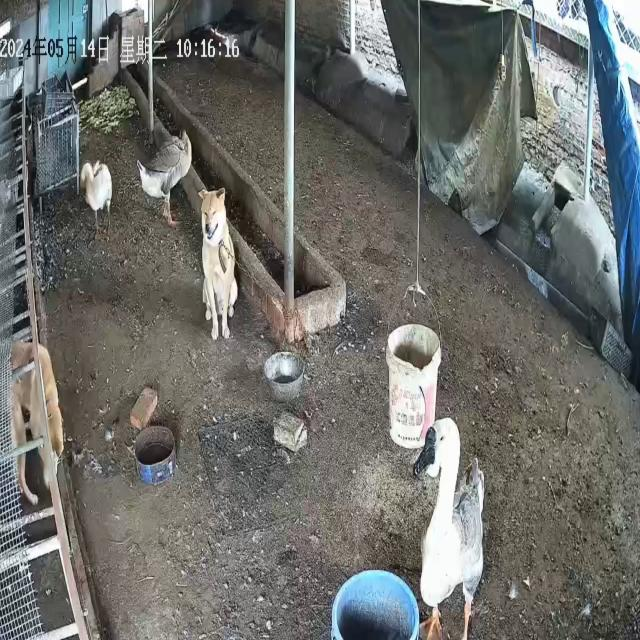dog: (11, 340, 65, 508), (198, 188, 239, 342)
